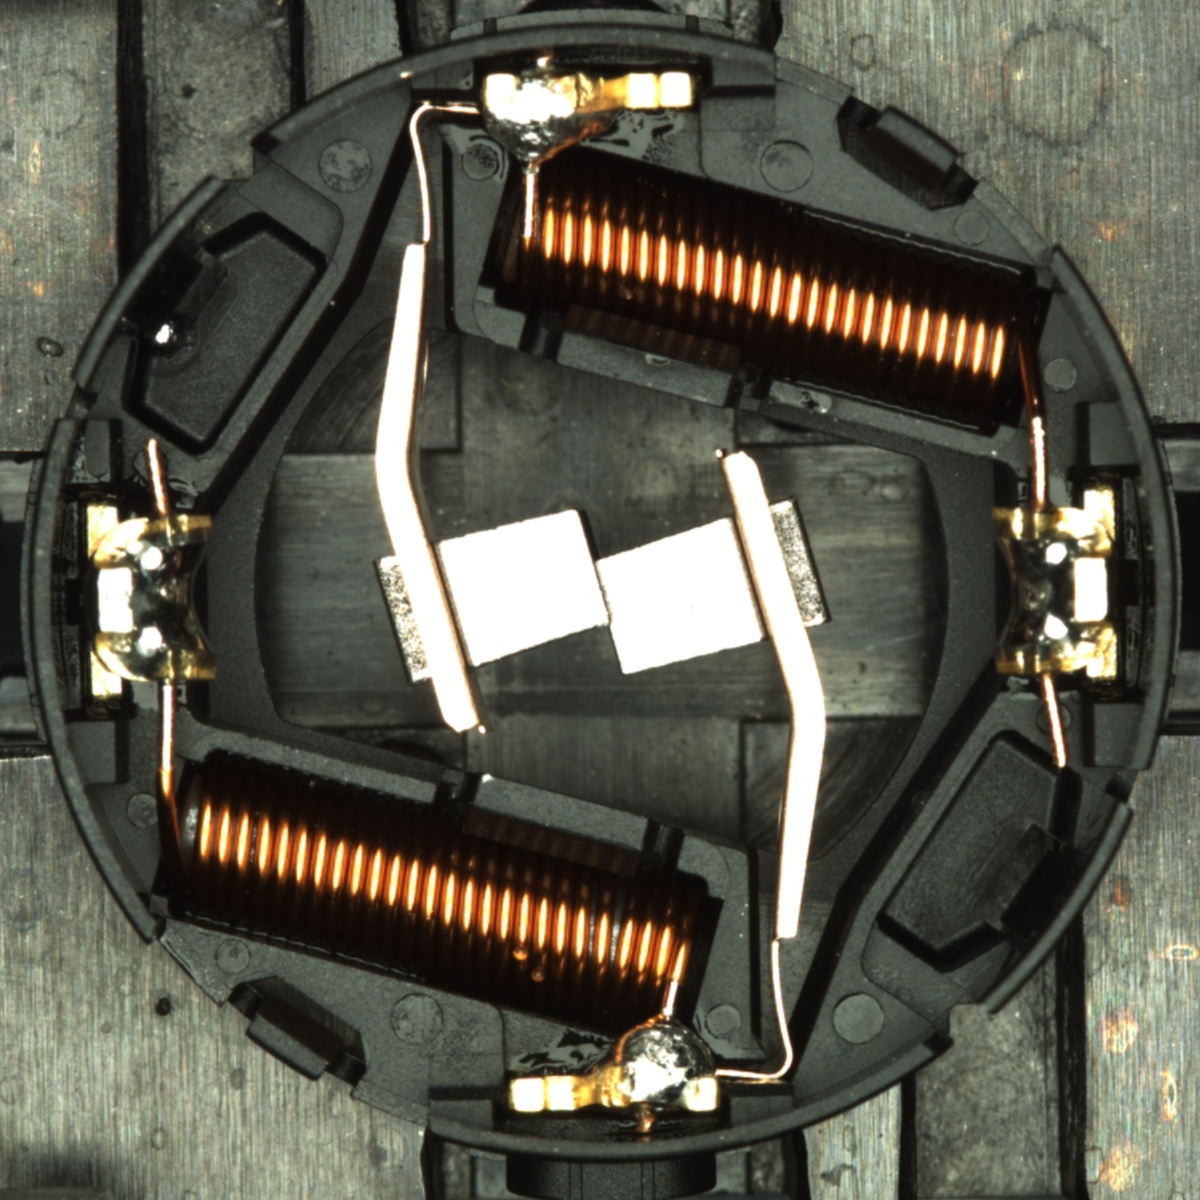1: (712, 929, 942, 1153), (254, 31, 482, 255)
2: (712, 31, 942, 255), (254, 929, 482, 1153)
3: (942, 703, 1170, 929), (24, 255, 254, 479)
4: (712, 703, 942, 929), (254, 255, 482, 479)
5: (482, 815, 712, 1041), (482, 143, 712, 367)
6: (254, 703, 482, 929), (712, 255, 942, 479)
7: (24, 703, 254, 929), (942, 255, 1170, 479)
cacbon: (392, 497, 803, 686)
chau_dien: (80, 498, 220, 699), (984, 487, 1124, 686)
hat_chi: (145, 316, 184, 356)
tay_choi: (480, 67, 698, 168), (508, 1014, 722, 1116)
thanh_de: (954, 786, 1141, 1030), (59, 162, 246, 405)
